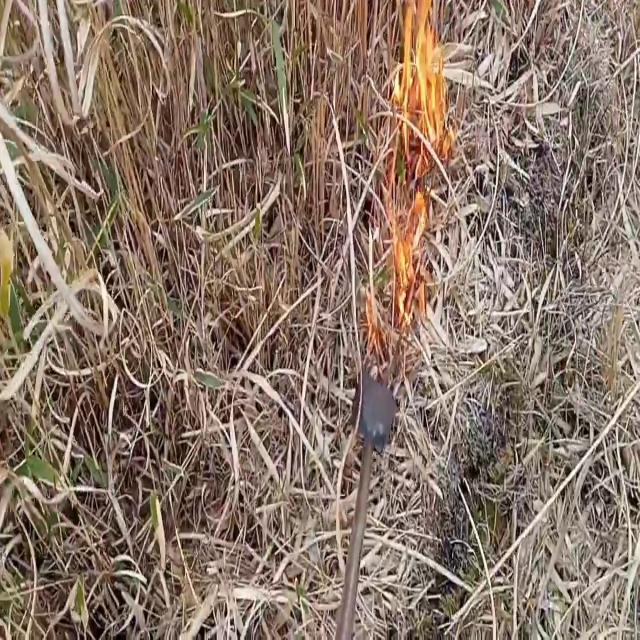Fire: (388, 0, 450, 354)
